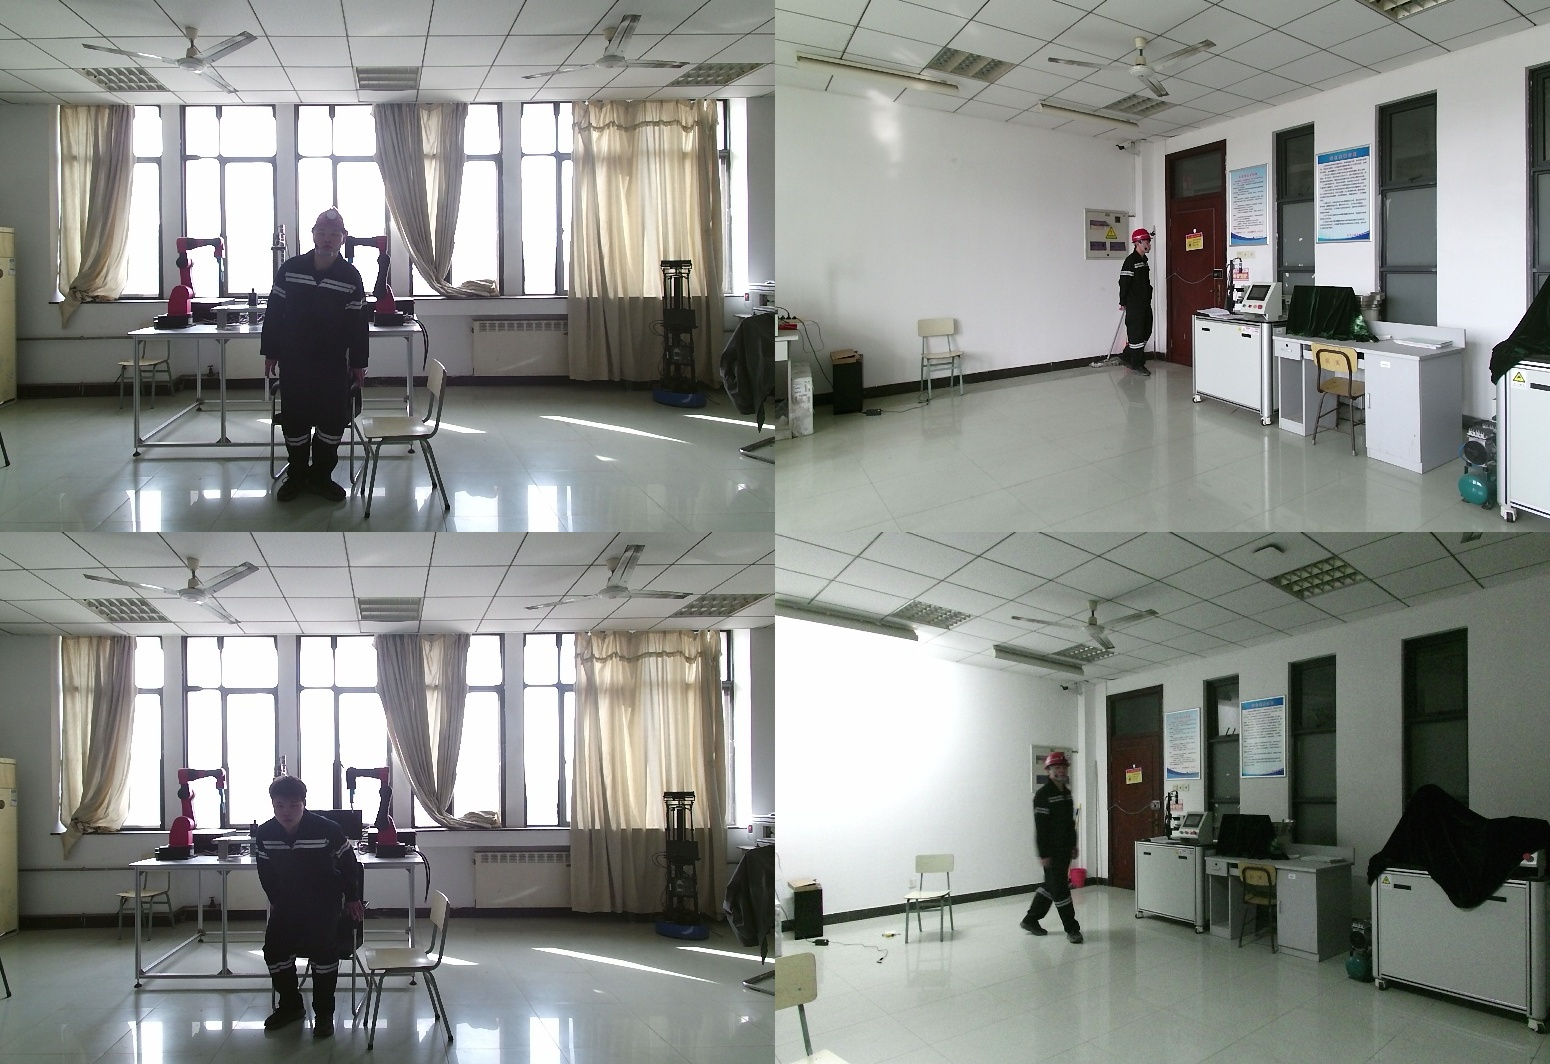person: (263, 208, 376, 501), (250, 780, 367, 1036), (1018, 752, 1082, 954), (1114, 229, 1155, 379)
